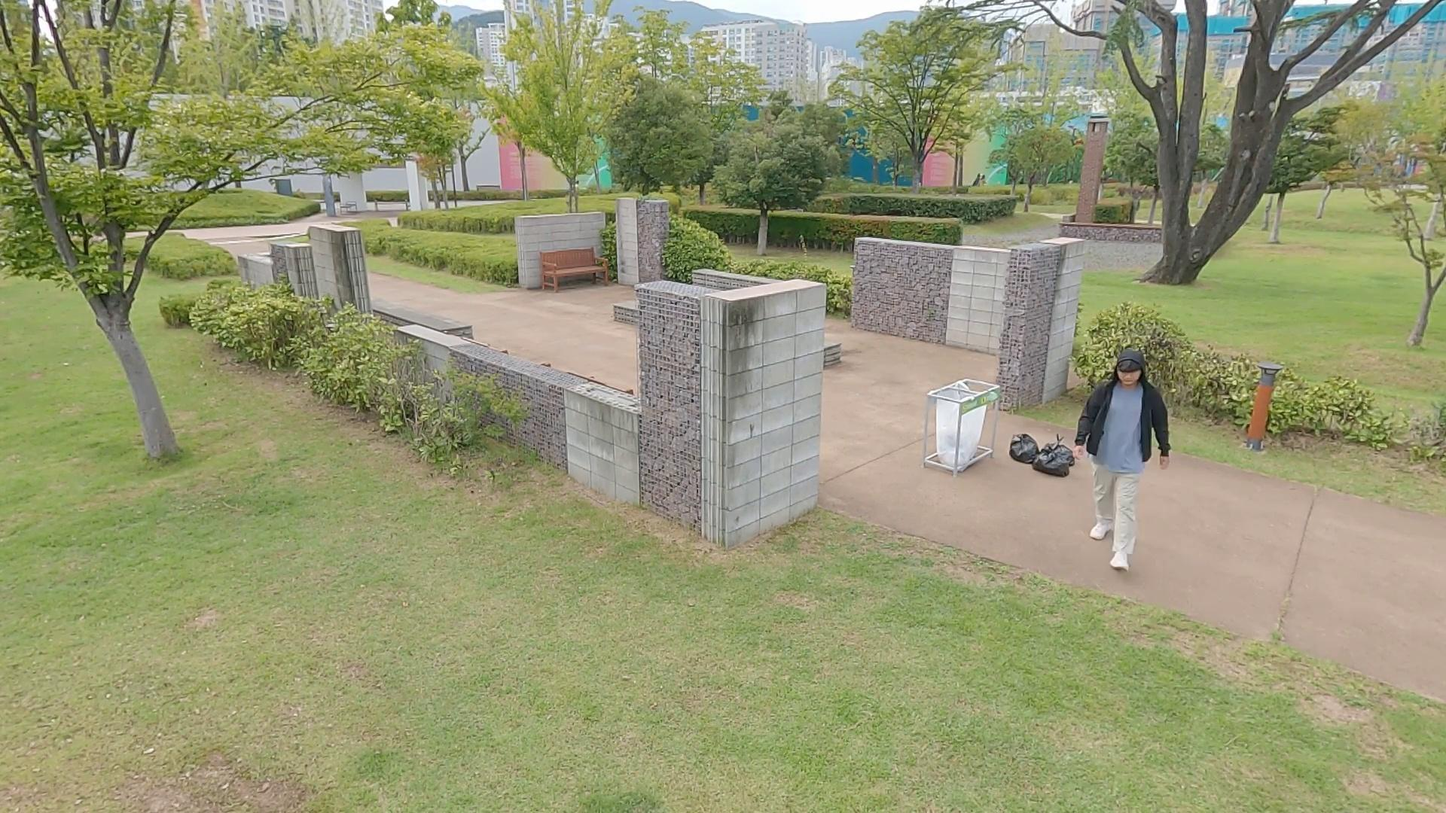person: (1076, 349, 1171, 573)
trash: (1029, 444, 1073, 477), (1040, 432, 1077, 463), (1009, 435, 1042, 466)
